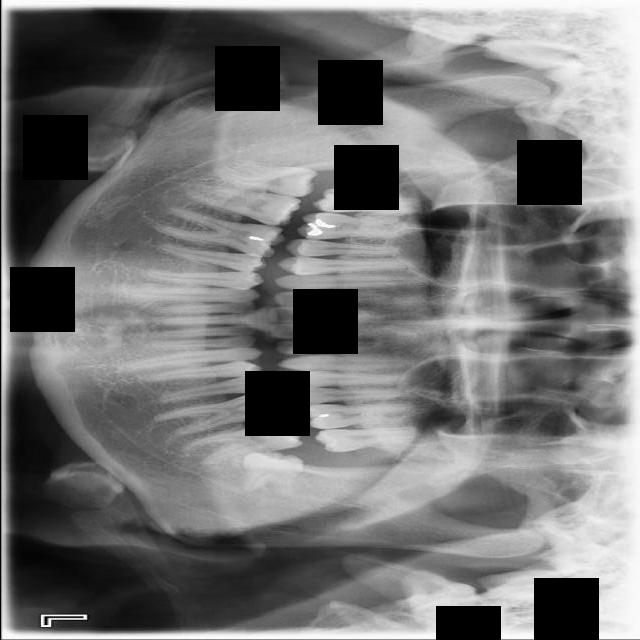52: (234, 221, 287, 261), (294, 211, 351, 241), (301, 403, 351, 429)
73: (72, 594, 93, 602)
BioHorizons Implant: (313, 425, 419, 454)
Biomet 3i Implant: (238, 445, 306, 499)
Blue Sky Bio Implant: (179, 415, 301, 470)
Caries: (311, 187, 420, 217)
Implant: (180, 181, 302, 229)
Keystone Dental Implant: (211, 156, 318, 200)
